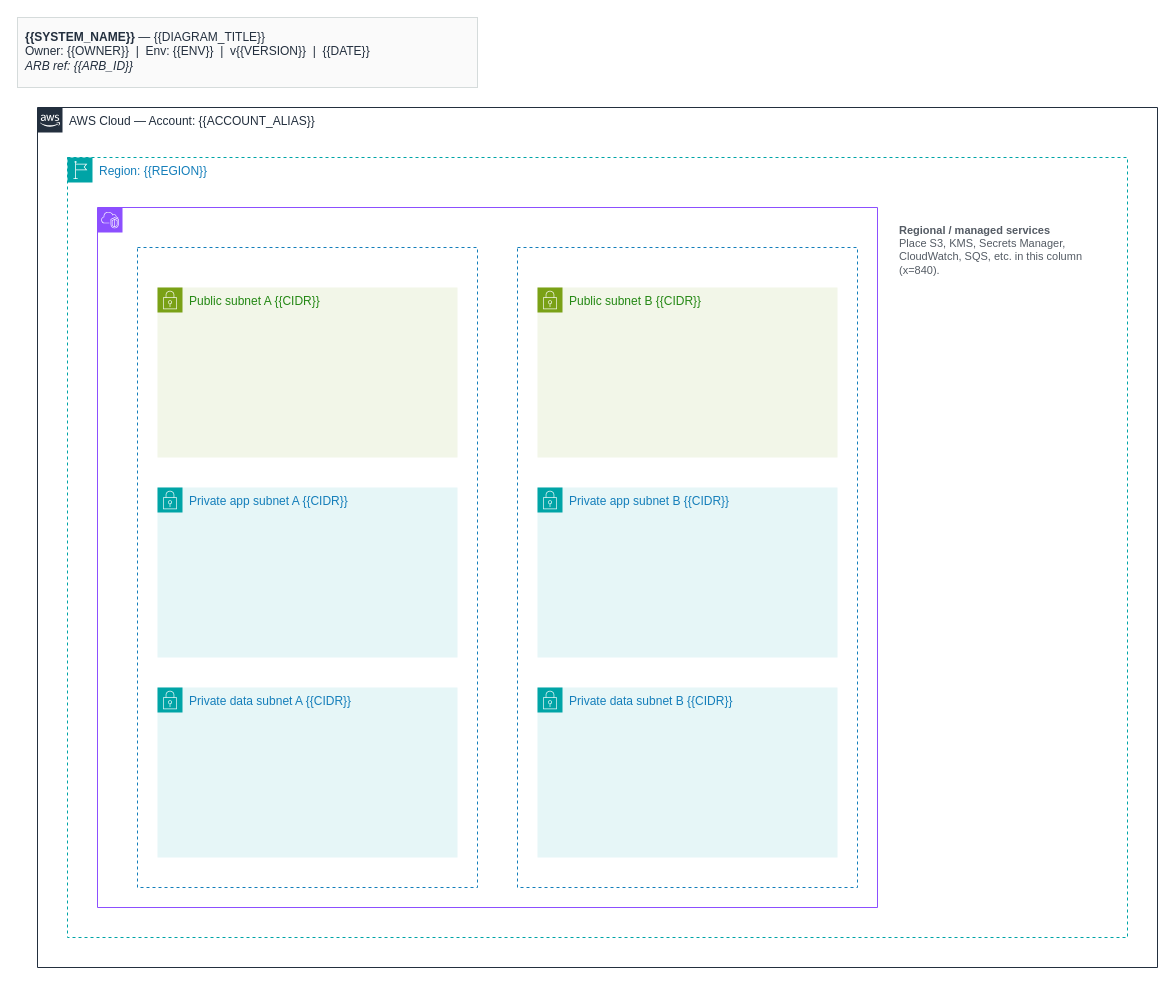
This 1175x985 diagram has some shape labels left out. Each missing label, with the box of its shape:
Availability Zone A: (136, 246, 478, 888)
Availability Zone B: (516, 246, 858, 888)
VPC {{VPC_CIDR}}: (96, 206, 878, 908)
